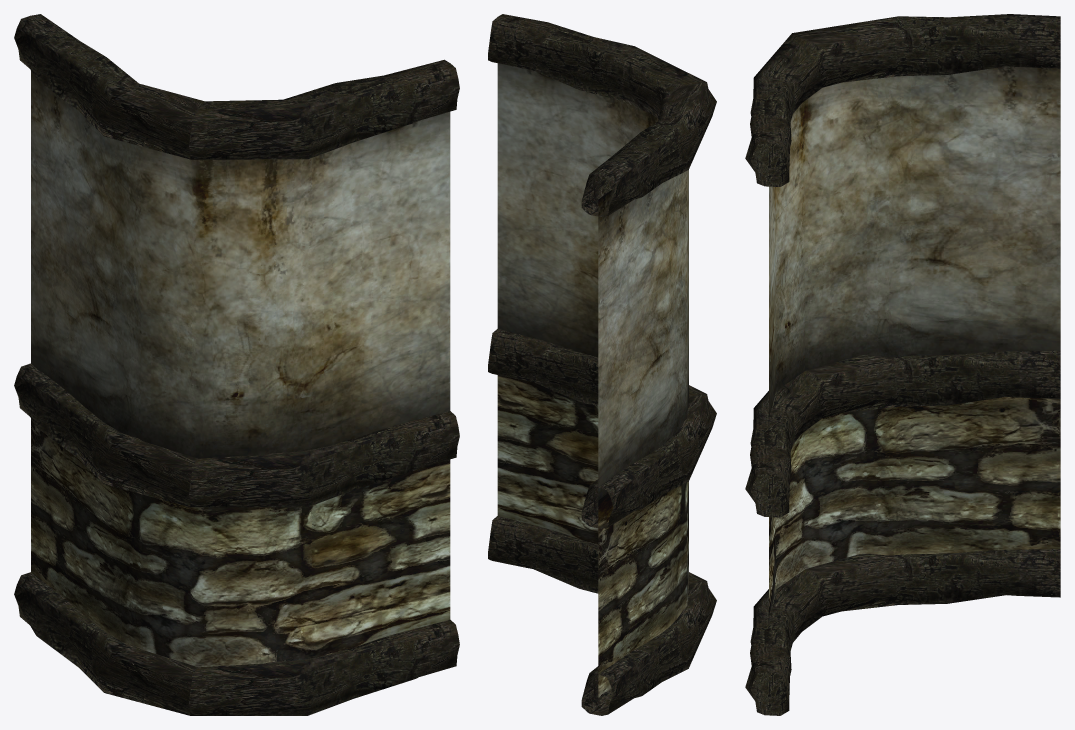
File: corner_convex_round_short.dae
3 renders of one model, left to right at view 1: azimuth 30°, elevation 25°; view 2: azimuth 150°, elevation 25°; view 3: azimuth 270°, elevation 25°, orthographic. The views are drawn at different scales.
Visible parts, largest first — view 1: pPlane12, polySurface20; view 2: pPlane12, polySurface20; view 3: pPlane12, polySurface20.
Boxes of the visible parts, x1,y1,x2,y2 form: pPlane12: (31,71,450,667); polySurface20: (14,14,459,715); pPlane12: (497,63,688,697); polySurface20: (488,14,716,715); pPlane12: (769,66,1060,614); polySurface20: (745,14,1060,715).
Size of the model in its own units: 2.16 by 4.39 by 2.16.
